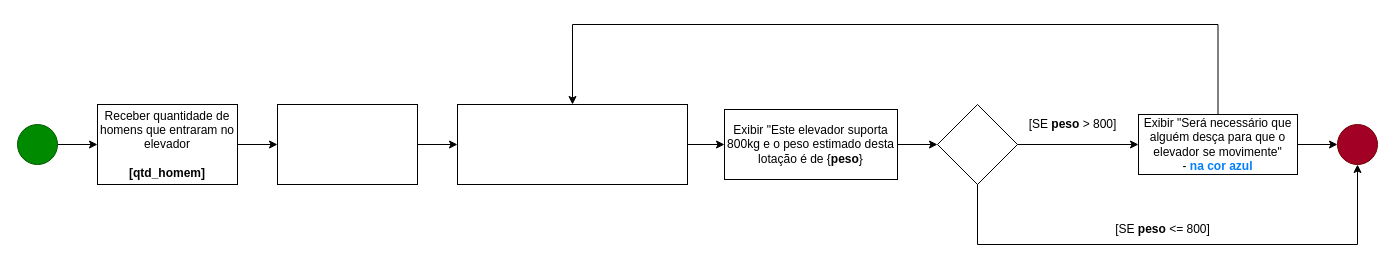
Some shapes in this 1395 by 270 pixel diagram are drawn without their labels. The box of each missing label's shape, as (x1, y1, x2, y2) in pixels:
Calcular peso estimado [peso] = ( qtd_homem * 80) + ( qtd_mulher * 60): (456, 104, 688, 184)
Receber quantidade de mulheres que entraram no elevador [qtd_mulher]: (276, 104, 418, 184)
